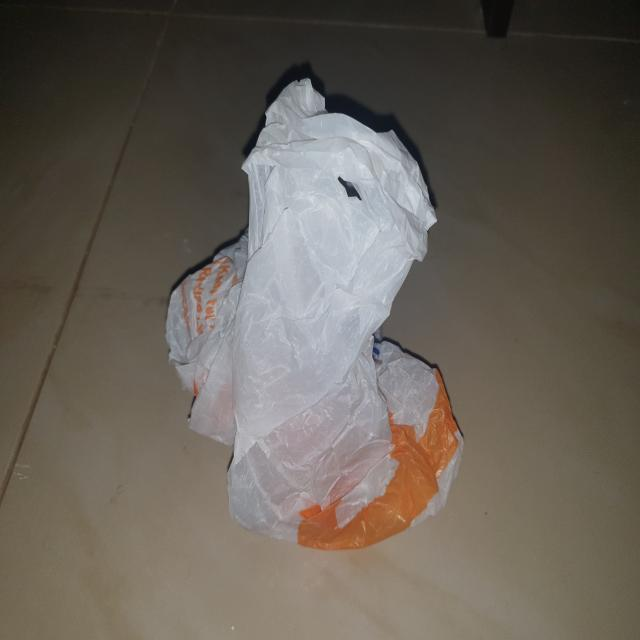Plastic_Bag: (150, 59, 474, 578)
